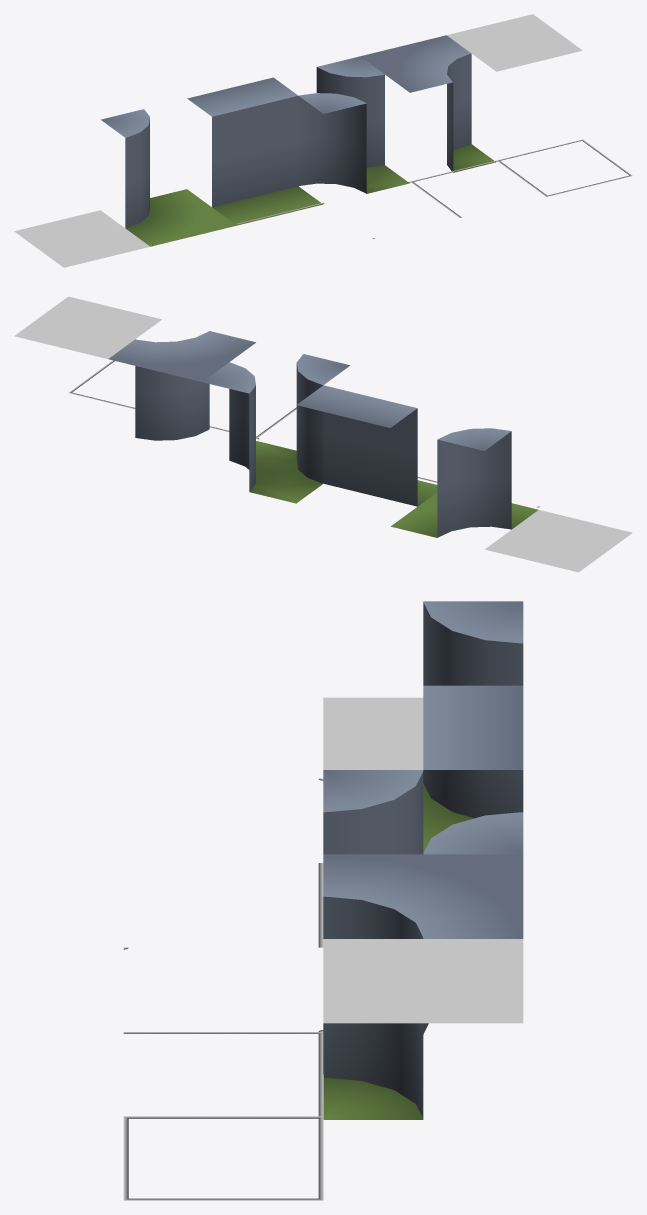
File: Tiles.fbx
3 views of the same model, one above another, from view 1: azimuth 30°, elevation 25°; view 2: azimuth 150°, elevation 25°; view 3: azimuth 270°, elevation 25° (orthographic). The views are drawn at different scales.
Parts seen in each view (by area): view 1: Tile Type21, Tile Type22, Tile Type1, Tile Type3, Tile Type4, Tile Type0, Grid Type4; view 2: Tile Type21, Tile Type22, Tile Type1, Tile Type3, Tile Type0, Tile Type4; view 3: Tile Type3, Tile Type4, Tile Type1, Tile Type22, Tile Type21, Tile Type0, Grid Type4, Grid Type3.
Part boxes in pixels (box(x1,y1,x2,y2)): Tile Type21: box(187, 77, 322, 225); Tile Type22: box(298, 56, 409, 193); Tile Type1: box(101, 109, 236, 246); Tile Type3: box(360, 35, 495, 172); Tile Type4: box(447, 14, 582, 71); Tile Type0: box(14, 210, 149, 267); Grid Type4: box(497, 139, 632, 196); Tile Type21: box(296, 385, 437, 506); Tile Type22: box(202, 354, 349, 503); Tile Type1: box(391, 428, 538, 537); Tile Type3: box(108, 331, 255, 440); Tile Type0: box(485, 510, 632, 572); Tile Type4: box(14, 296, 161, 358); Tile Type3: box(323, 854, 523, 1119); Tile Type4: box(323, 939, 523, 1023); Tile Type1: box(423, 601, 523, 853); Tile Type22: box(323, 770, 523, 1034); Tile Type21: box(423, 685, 523, 769); Tile Type0: box(323, 697, 423, 769); Grid Type4: box(123, 1116, 323, 1200); Grid Type3: box(123, 1032, 323, 1116).
Size of the model in its own units: 600 by 100 by 200.
